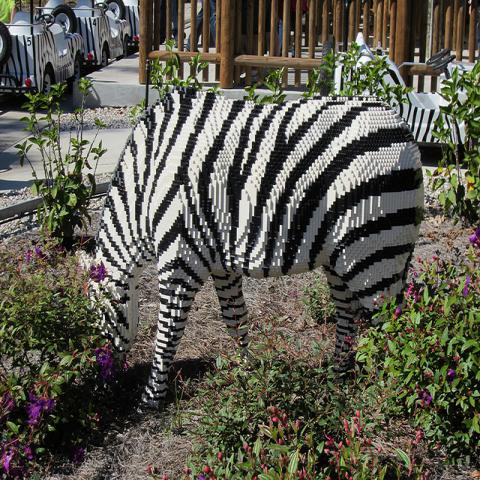car: (0, 10, 85, 109), (40, 3, 131, 68), (94, 1, 140, 47)
